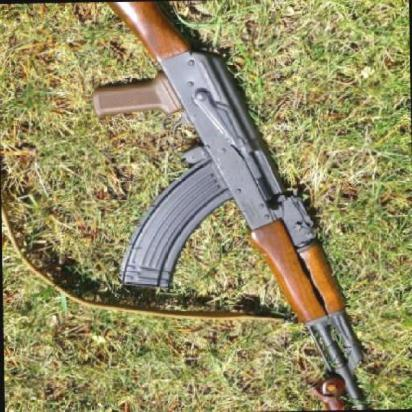Gun: (90, 1, 368, 412)
